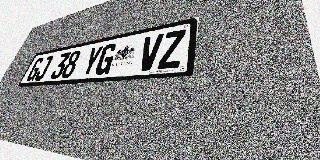3: (49, 52, 71, 79)
8: (60, 49, 83, 78)
G: (93, 42, 119, 75), (25, 57, 45, 82)
J: (33, 55, 54, 81)
V: (136, 33, 164, 71)
Y: (80, 45, 104, 77)
Z: (157, 29, 186, 70)
